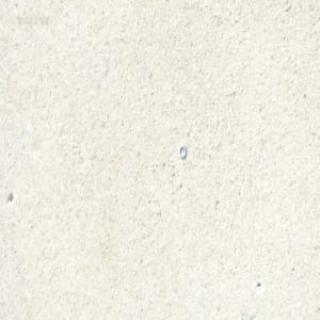Washertrack_idkeyframe: (178, 144, 185, 160)
